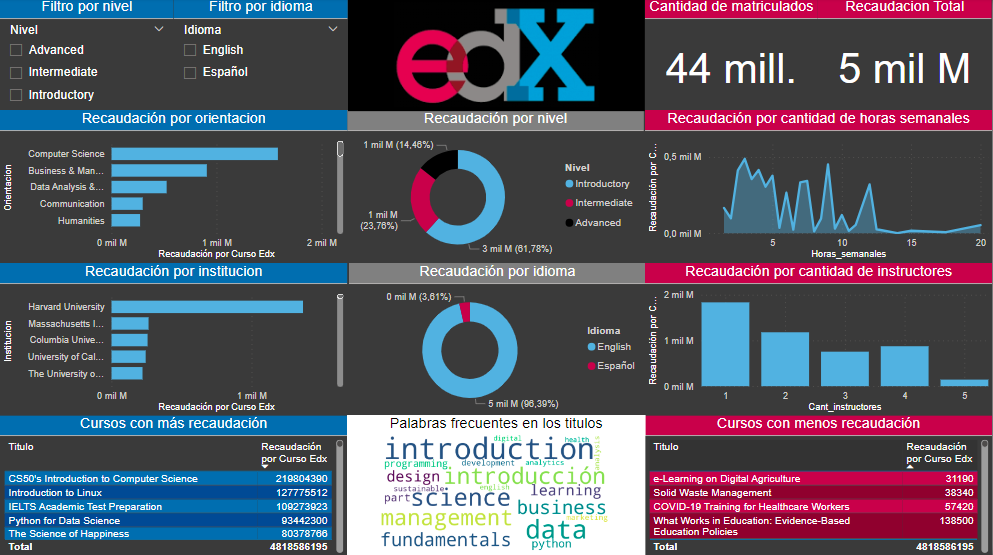

What the dashboard file says about the page in this screenshot:
{"tool":"powerbi","page":{"name":"Edx","canvas":[1280,720],"ordinal":2},"visuals":[{"type":"tableEx","title":"Cursos con menos recaudación","fields":{"Values":["edx_courses_final.Titulo","edx_courses_final.Recaudación por Curso Edx"]},"box":[831.7,538.3,448.3,181.7],"z":0},{"type":"slicer","title":"Filtro por idioma","fields":{"Values":["edx_courses_final.Idioma"]},"box":[224.3,0,224.3,145.7],"z":1000},{"type":"card","title":"Recaudacion Total","fields":{"Values":["edx_courses_final.Recaudación por Curso Edx"]},"box":[1056.1,0,223.9,145],"z":2000},{"type":"card","title":"Cantidad de matriculados","fields":{"Values":["Sum(edx_courses_final.Matriculados)"]},"box":[831.7,0,223.3,145],"z":3000},{"type":"slicer","title":"Filtro por nivel","fields":{"Values":["edx_courses_final.Nivel"]},"box":[0,0,224.3,145.7],"z":4000},{"type":"donutChart","title":"Recaudación por nivel","fields":{"Category":["edx_courses_final.Nivel"],"Y":["edx_courses_final.Recaudación por Curso Edx"]},"box":[448.3,145,383.3,196.7],"z":5000},{"type":"barChart","title":"Recaudación por orientacion","fields":{"Category":["edx_courses_final.Orientacion"],"Y":["edx_courses_final.Recaudación por Curso Edx"]},"box":[0,145,448.3,196.7],"z":6000},{"type":"tableEx","title":"Cursos con más recaudación","fields":{"Values":["edx_courses_final.Titulo","edx_courses_final.Edx Recaudación por Curso"]},"box":[0,538.3,448.3,181.7],"z":7000},{"type":"donutChart","title":"Recaudación por idioma","fields":{"Category":["edx_courses_final.Idioma"],"Y":["edx_courses_final.Recaudación por Curso Edx"]},"box":[450,341.7,383.3,196.7],"z":8000},{"type":"barChart","title":"Recaudación por institucion","fields":{"Category":["edx_courses_final.Institucion"],"Y":["edx_courses_final.Recaudación por Curso Edx"]},"box":[0,341.7,448.3,196.7],"z":9000},{"type":"areaChart","title":"Recaudación por cantidad de horas semanales","fields":{"Category":["edx_courses_final.Horas_semanales"],"Y":["edx_courses_final.Recaudación por Curso Edx"]},"box":[831.7,145,448.3,196.7],"z":10000},{"type":"columnChart","title":"Recaudación por cantidad de instructores","fields":{"Category":["edx_courses_final.Cant_instructores"],"Y":["edx_courses_final.Recaudación por Curso Edx"]},"box":[831.7,341.7,448.3,196.7],"z":11000},{"type":"image","box":[448.6,0,382.9,145.7],"z":12000},{"type":"image","title":"Palabras frecuentes en los titulos","box":[448.3,538.3,385,181.7],"z":13000}]}

Visuals, with their boxes in screenshot pixels (x1, y1, x2, y2), scaled from the page's 1280x720 canvas onto the 993x555 screenshot:
"Cursos con menos recaudación" tableEx: (645, 415, 992, 554)
"Filtro por idioma" slicer: (174, 0, 348, 112)
"Recaudacion Total" card: (819, 0, 992, 112)
"Cantidad de matriculados" card: (645, 0, 818, 112)
"Filtro por nivel" slicer: (0, 0, 174, 112)
"Recaudación por nivel" donutChart: (348, 112, 645, 263)
"Recaudación por orientacion" barChart: (0, 112, 348, 263)
"Cursos con más recaudación" tableEx: (0, 415, 348, 554)
"Recaudación por idioma" donutChart: (349, 263, 646, 415)
"Recaudación por institucion" barChart: (0, 263, 348, 415)
"Recaudación por cantidad de horas semanales" areaChart: (645, 112, 992, 263)
"Recaudación por cantidad de instructores" columnChart: (645, 263, 992, 415)
image: (348, 0, 645, 112)
"Palabras frecuentes en los titulos" image: (348, 415, 646, 554)
